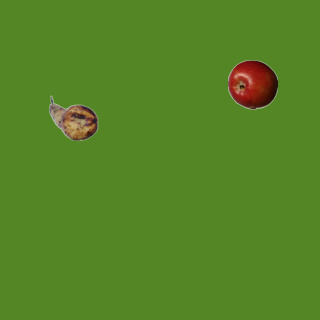Apple Braeburn: (227, 59, 277, 109)
Pear Abate: (48, 93, 98, 143)
